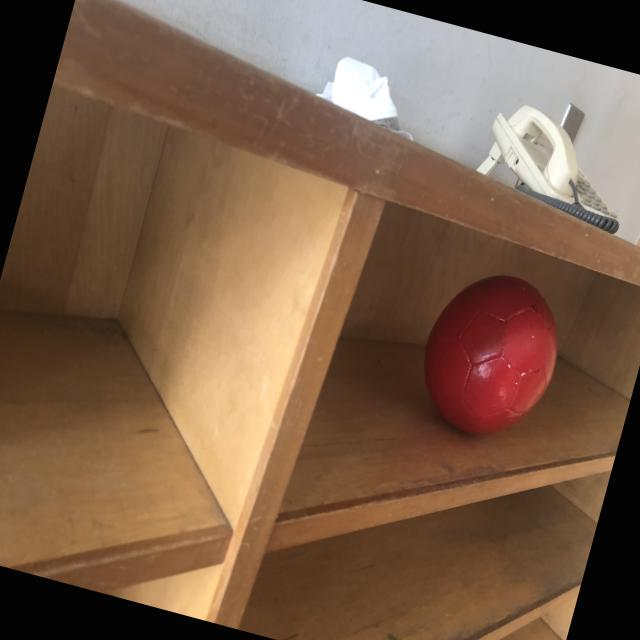red_ball: (406, 260, 574, 452)
